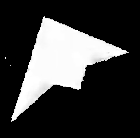Plane: (7, 10, 135, 125)
